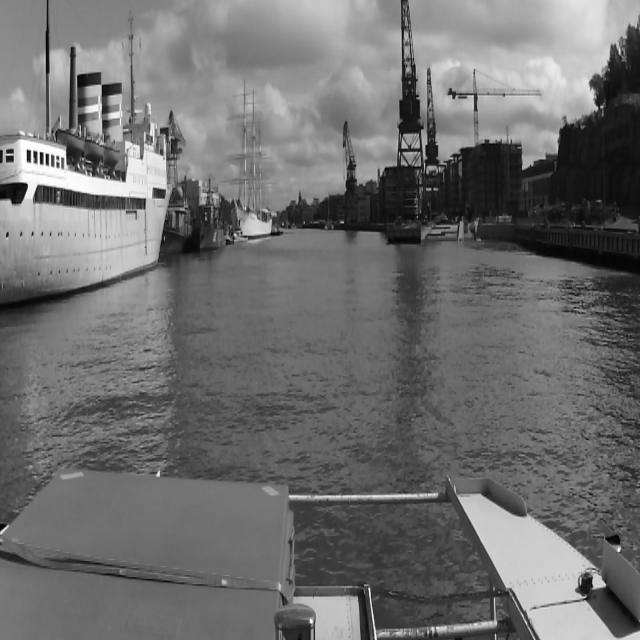ship: (0, 0, 170, 316), (232, 96, 272, 238), (191, 174, 227, 252), (176, 204, 194, 252), (324, 200, 334, 230), (229, 228, 247, 242)
